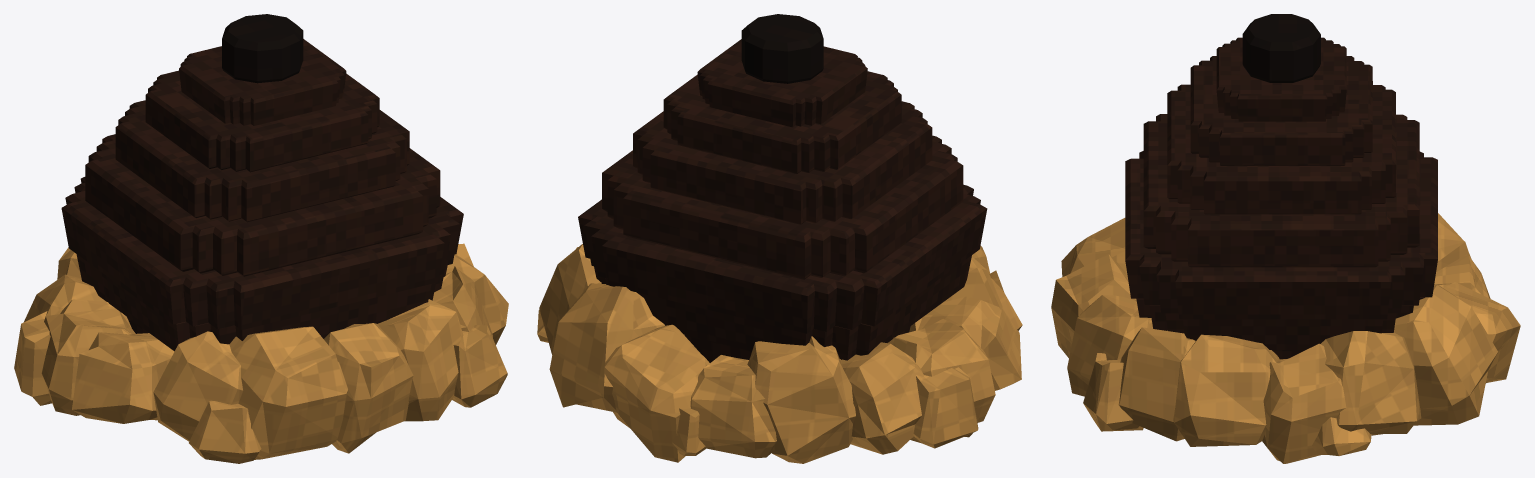
The model's file is Umber Terraced Egg.fbx.
The picture shows the model from 3 angles, left to right: view 1: azimuth 30°, elevation 25°; view 2: azimuth 150°, elevation 25°; view 3: azimuth 270°, elevation 25°; orthographic projection.
Parts seen in each view (by area): view 1: Umber terrace 05, Umber terrace 06, Umber terrace 07, Umber terrace 08, Ochre stone 15, Umber terrace 09, Ochre stone 01, Ochre stone 13, Umber terrace 04, Ochre stone 02, Ochre stone 14, Ochre stone 12 (+8 smaller); view 2: Umber terrace 05, Umber terrace 06, Umber terrace 07, Umber terrace 08, Ochre stone 10, Ochre stone 08, Umber terrace 09, Ochre stone 07, Umber terrace 04, Ochre stone 11, Ochre stone 09, Low dark top cap (+8 smaller); view 3: Umber terrace 05, Umber terrace 06, Umber terrace 07, Umber terrace 08, Ochre stone 04, Ochre stone 07, Ochre stone 06, Umber terrace 09, Ochre stone 05, Ochre stone 03, Umber terrace 04, Low dark top cap (+8 smaller).
Boxes of the visible parts, left/top/right/bottom form: Umber terrace 05: left=61, top=177, right=463, bottom=329; Umber terrace 06: left=85, top=134, right=440, bottom=276; Umber terrace 07: left=115, top=100, right=409, bottom=222; Umber terrace 08: left=145, top=70, right=379, bottom=172; Ochre stone 15: left=229, top=326, right=348, bottom=459; Umber terrace 09: left=179, top=39, right=346, bottom=125; Ochre stone 01: left=324, top=323, right=413, bottom=453; Ochre stone 13: left=72, top=332, right=174, bottom=423; Umber terrace 04: left=76, top=254, right=447, bottom=351; Ochre stone 02: left=378, top=299, right=463, bottom=421; Ochre stone 14: left=153, top=331, right=242, bottom=441; Ochre stone 12: left=41, top=299, right=135, bottom=415; Umber terrace 05: left=578, top=184, right=987, bottom=333; Umber terrace 06: left=602, top=135, right=963, bottom=279; Umber terrace 07: left=633, top=101, right=932, bottom=224; Umber terrace 08: left=663, top=71, right=901, bottom=173; Ochre stone 10: left=747, top=336, right=855, bottom=463; Ochre stone 08: left=604, top=324, right=709, bottom=462; Umber terrace 09: left=697, top=39, right=867, bottom=127; Ochre stone 07: left=549, top=283, right=684, bottom=412; Umber terrace 04: left=594, top=255, right=971, bottom=360; Ochre stone 11: left=841, top=342, right=923, bottom=454; Ochre stone 09: left=690, top=355, right=776, bottom=458; Low dark top cap: left=741, top=14, right=823, bottom=83; Umber terrace 05: left=1125, top=151, right=1437, bottom=319; Umber terrace 06: left=1143, top=114, right=1419, bottom=267; Umber terrace 07: left=1167, top=81, right=1395, bottom=214; Umber terrace 08: left=1190, top=56, right=1372, bottom=165; Ochre stone 04: left=1173, top=334, right=1279, bottom=446; Ochre stone 07: left=1394, top=285, right=1497, bottom=425; Ochre stone 06: left=1320, top=331, right=1421, bottom=435; Umber terrace 09: left=1216, top=37, right=1346, bottom=121; Ochre stone 05: left=1262, top=343, right=1371, bottom=463; Ochre stone 03: left=1118, top=327, right=1195, bottom=441; Umber terrace 04: left=1136, top=297, right=1424, bottom=349; Low dark top cap: left=1242, top=14, right=1320, bottom=82.
Bounding box in the file's own units: 320 × 251 × 302.
Materials: 3 (3 with a texture image).
